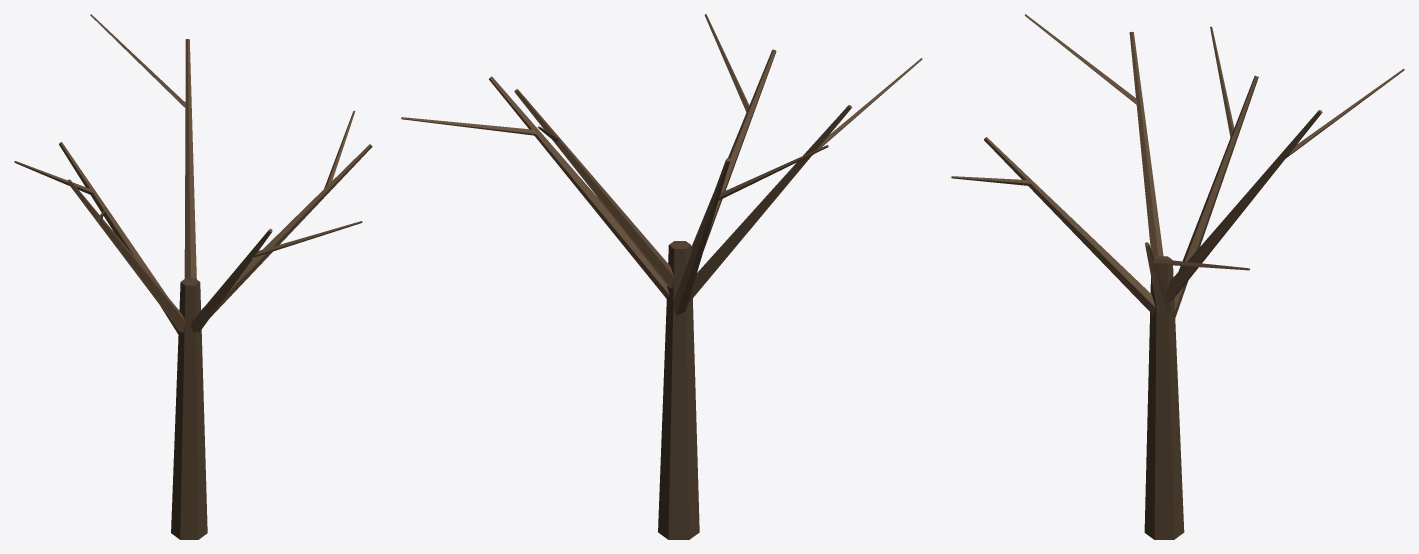
File: broad-v0-winter.glb
3 renders of one model, left to right at view 1: azimuth 30°, elevation 25°; view 2: azimuth 150°, elevation 25°; view 3: azimuth 270°, elevation 25°, orthographic. The views are drawn at different scales.
Parts seen in each view (by area): view 1: broad_v0; view 2: broad_v0; view 3: broad_v0.
Boxes of the visible parts, box(x1,y1,x2,y2) form: broad_v0: box(14, 14, 372, 539); broad_v0: box(401, 14, 922, 539); broad_v0: box(951, 14, 1404, 539).
Size of what is drawn, in the model's own units: 5.86 by 6.81 by 5.95.
